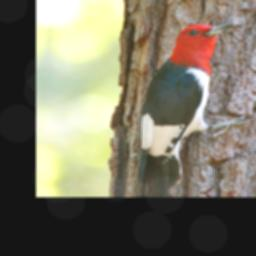Woodpecker: (134, 17, 256, 194)
